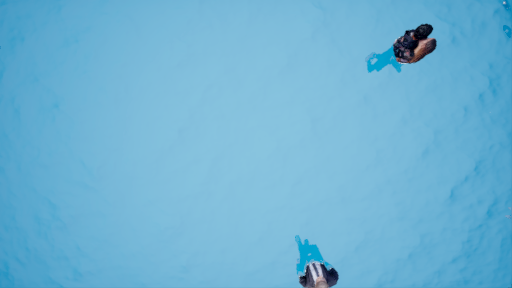person: (366, 21, 437, 78), (289, 233, 346, 288)
